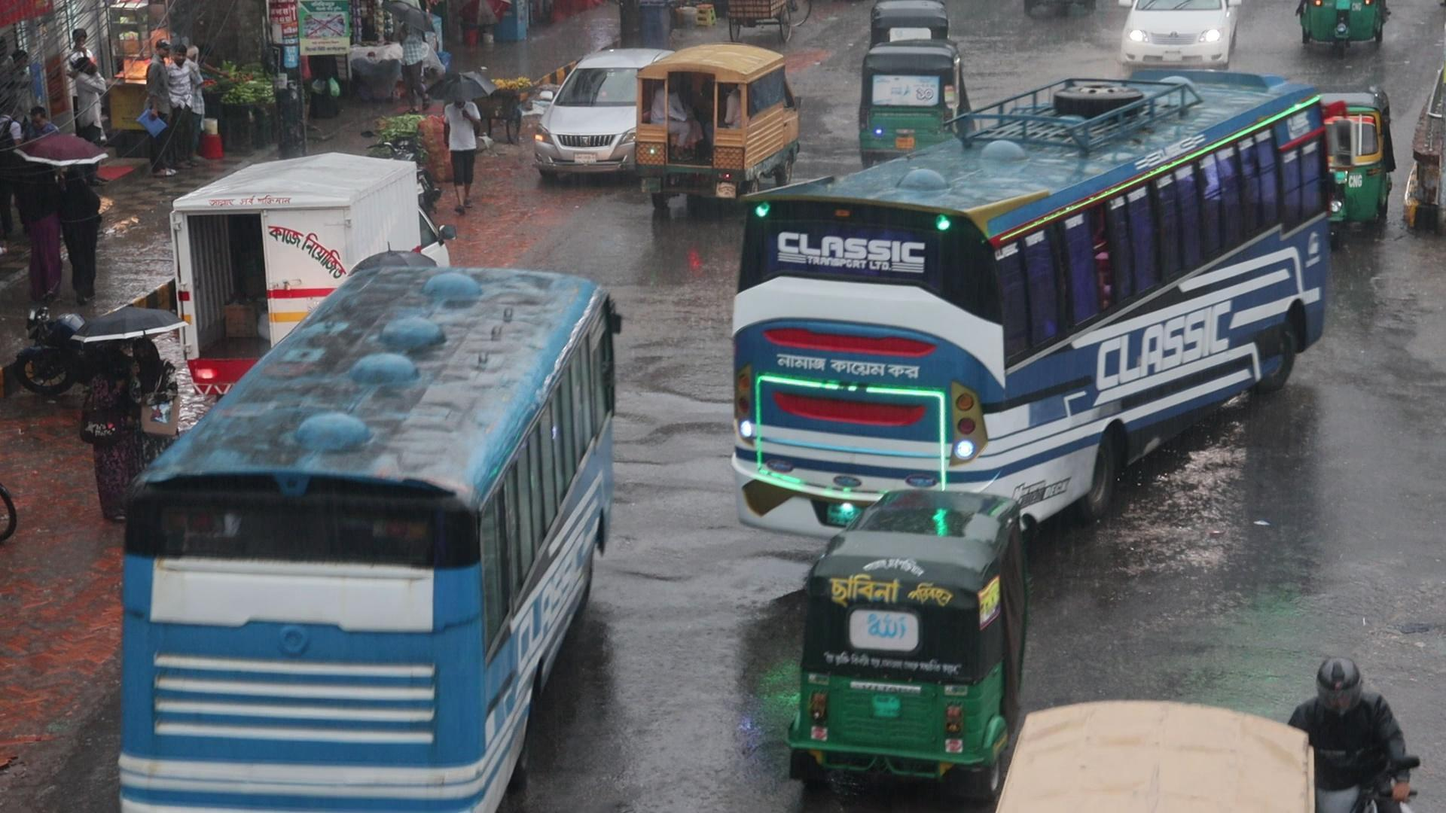Bus: (727, 55, 1328, 546), (117, 251, 621, 813)
Car: (529, 40, 682, 181), (1118, 0, 1241, 81)
Truck: (638, 40, 799, 216)
